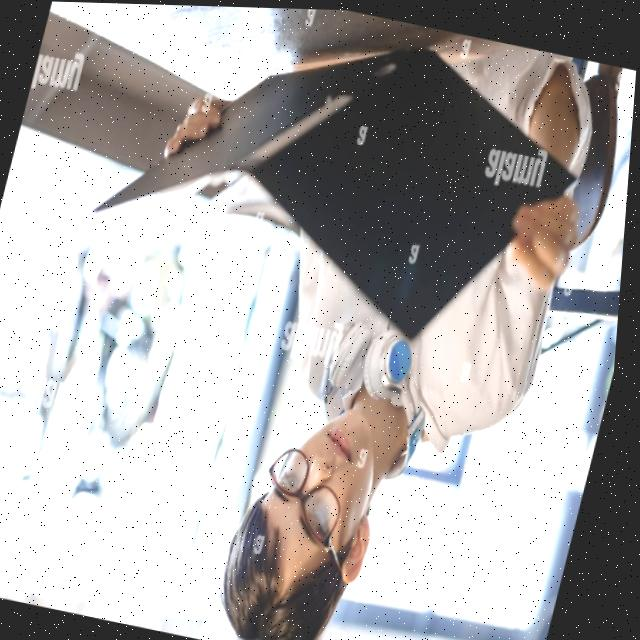studying-person: (0, 1, 618, 640)
